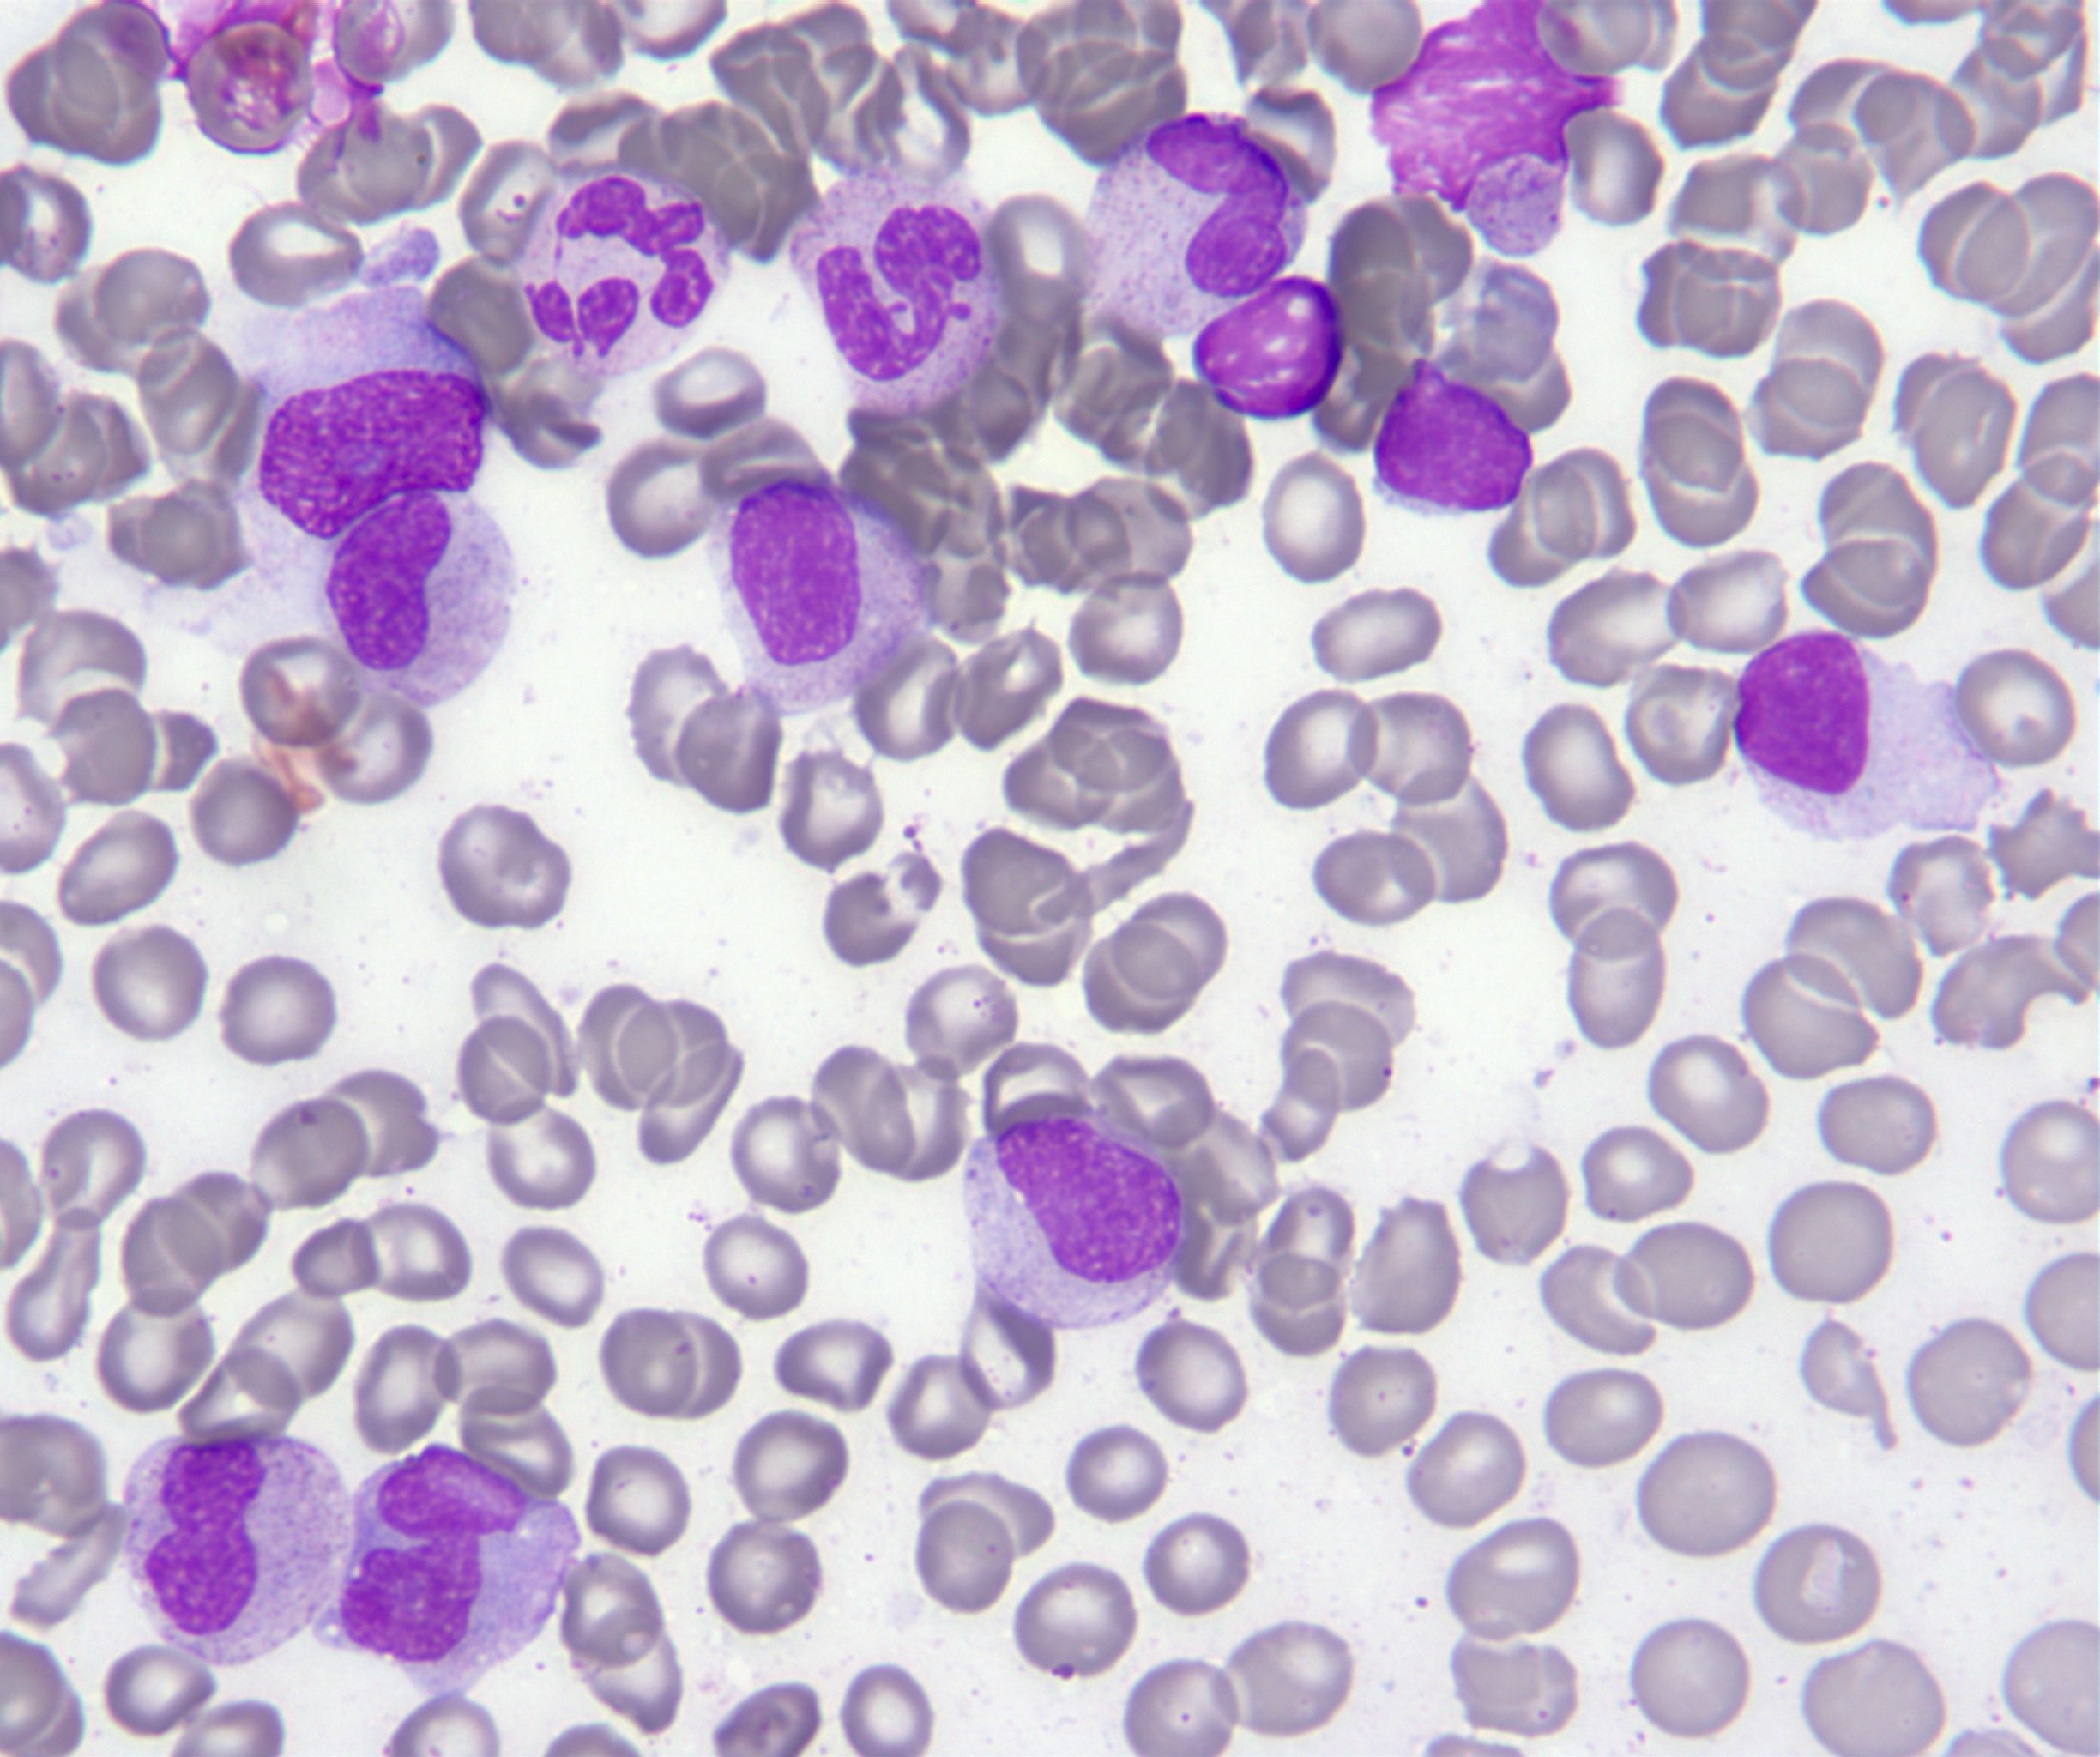3: (241, 281, 494, 539), (963, 1120, 1181, 1331)
32: (1734, 628, 1997, 839), (1374, 361, 1531, 515), (1191, 272, 1345, 420)
4: (122, 1434, 358, 1666), (712, 480, 924, 715), (314, 489, 513, 707)
42: (314, 1445, 581, 1698)
5: (1076, 110, 1312, 335)
6: (788, 171, 1006, 414), (522, 169, 731, 379)
x: (1369, 3, 1622, 211)
